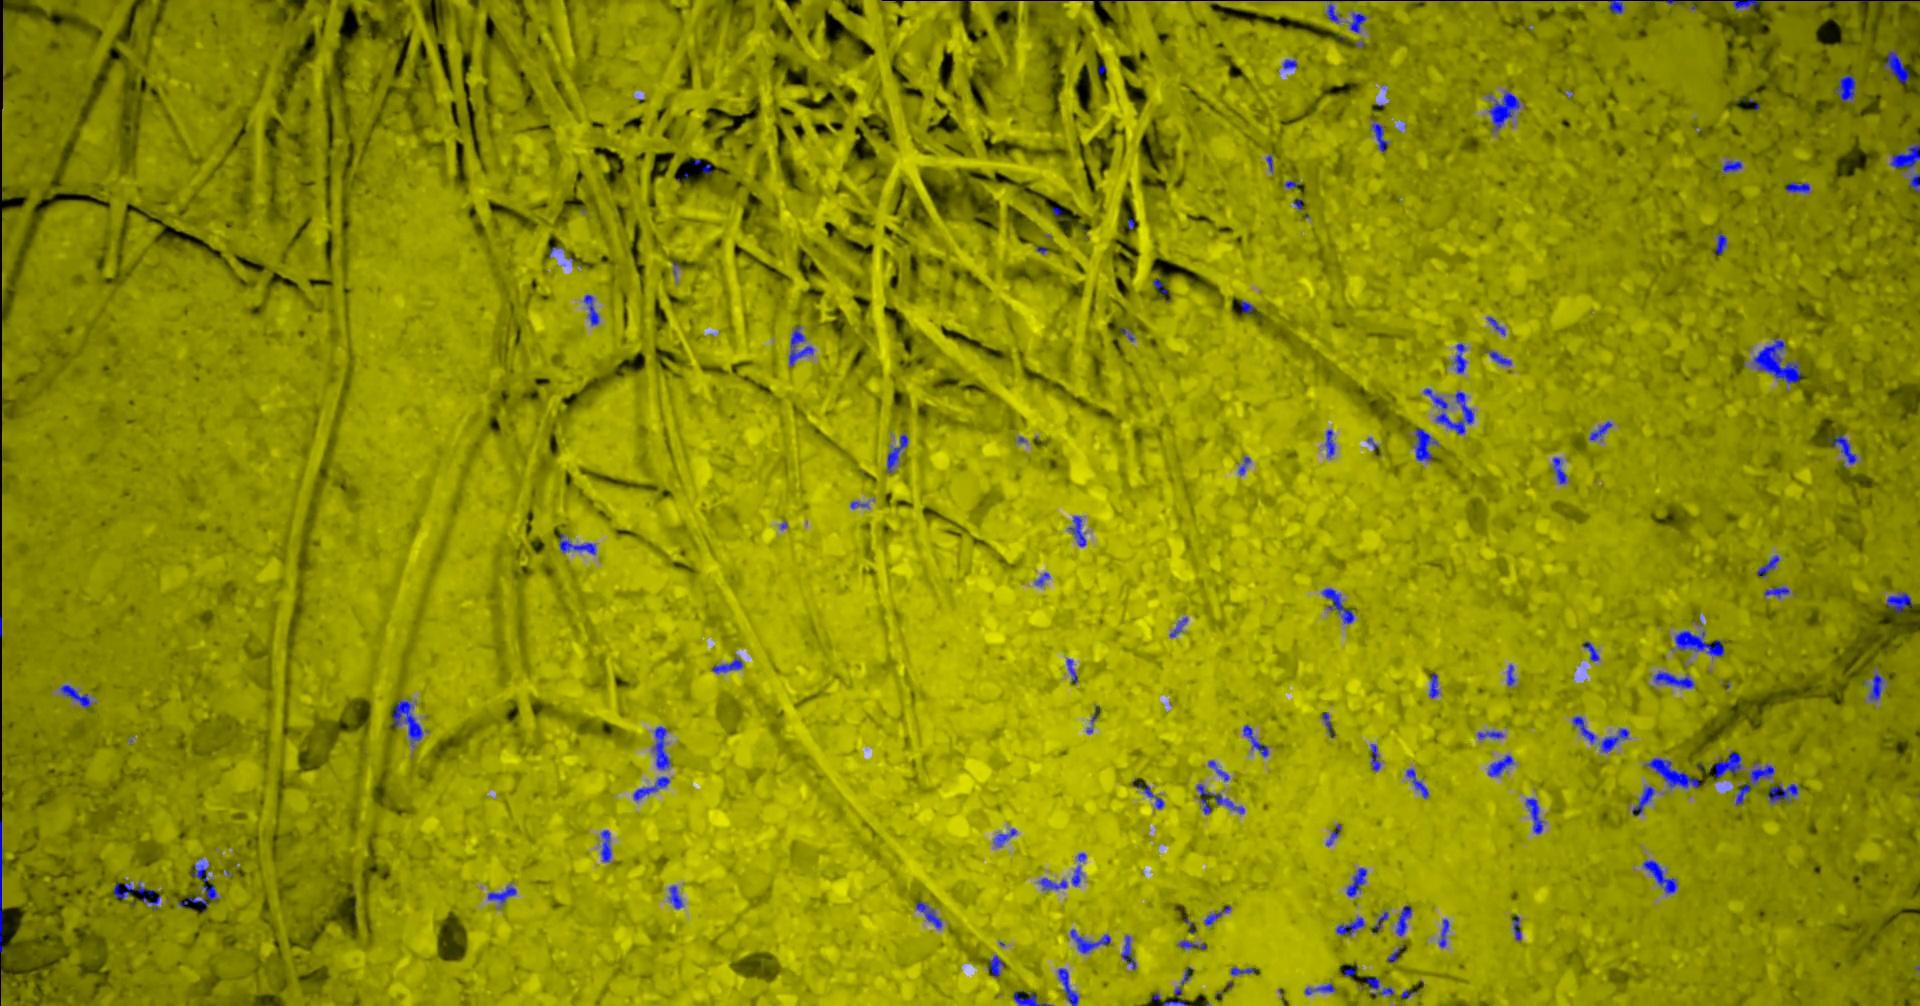ant: (1423, 387, 1473, 434), (1752, 337, 1801, 384), (177, 862, 216, 911), (1735, 761, 1774, 805), (1644, 757, 1699, 788), (1196, 784, 1244, 813), (112, 882, 160, 909), (392, 700, 422, 746), (1674, 630, 1724, 655), (1487, 90, 1519, 130), (1642, 859, 1677, 893), (1321, 588, 1354, 622), (1069, 929, 1110, 953), (1131, 779, 1163, 808), (1829, 434, 1857, 467), (789, 326, 813, 365), (632, 776, 669, 800), (1242, 724, 1269, 756), (1883, 50, 1909, 83), (1890, 142, 1919, 170), (1413, 427, 1437, 460), (1057, 968, 1078, 1005), (886, 434, 907, 473), (58, 683, 90, 708), (559, 533, 596, 554), (1652, 671, 1694, 688), (653, 727, 670, 768), (1714, 749, 1741, 777), (1630, 785, 1655, 815), (916, 901, 942, 927), (1597, 728, 1628, 751), (1406, 768, 1429, 798), (1768, 782, 1799, 803), (1834, 72, 1855, 102), (1525, 796, 1542, 833), (1884, 592, 1912, 614), (1572, 715, 1594, 743), (1345, 868, 1366, 895), (1012, 989, 1051, 1005), (1365, 976, 1393, 996), (1487, 754, 1512, 776), (1204, 904, 1230, 925), (488, 884, 516, 903), (1173, 967, 1192, 995), (1371, 119, 1388, 151), (583, 293, 599, 325), (1068, 514, 1084, 546), (1756, 554, 1779, 577), (1335, 917, 1364, 935), (1396, 904, 1412, 935), (1121, 935, 1135, 969), (711, 657, 742, 672), (1208, 760, 1228, 781), (1589, 420, 1611, 439), (1451, 343, 1465, 373), (1484, 349, 1511, 365), (1868, 673, 1883, 700), (994, 828, 1016, 846), (1371, 911, 1388, 934), (1037, 876, 1067, 889), (599, 829, 611, 861), (1349, 11, 1366, 32), (1552, 457, 1566, 483), (1304, 983, 1335, 995), (1170, 617, 1187, 636), (0, 819, 3, 951), (1324, 823, 1340, 845), (1321, 713, 1335, 735), (668, 885, 682, 908), (1486, 318, 1503, 335), (1582, 641, 1599, 661), (1785, 180, 1810, 193), (1763, 586, 1789, 597), (1369, 743, 1380, 770), (1326, 0, 1340, 22), (989, 954, 1003, 976), (1437, 918, 1448, 948), (692, 158, 711, 173), (1713, 232, 1726, 255), (1324, 429, 1335, 457), (1065, 658, 1077, 682), (1732, 0, 1763, 9), (1511, 915, 1521, 940), (1152, 278, 1168, 293), (1178, 940, 1206, 949), (1230, 967, 1257, 976), (1722, 160, 1742, 171), (1070, 865, 1081, 887), (1429, 673, 1437, 697), (1239, 298, 1255, 312), (1608, 0, 1623, 13), (1909, 171, 1919, 191), (1477, 730, 1502, 738), (1162, 998, 1189, 1005), (1506, 664, 1514, 685), (1283, 58, 1297, 69), (1857, 0, 1919, 1)
